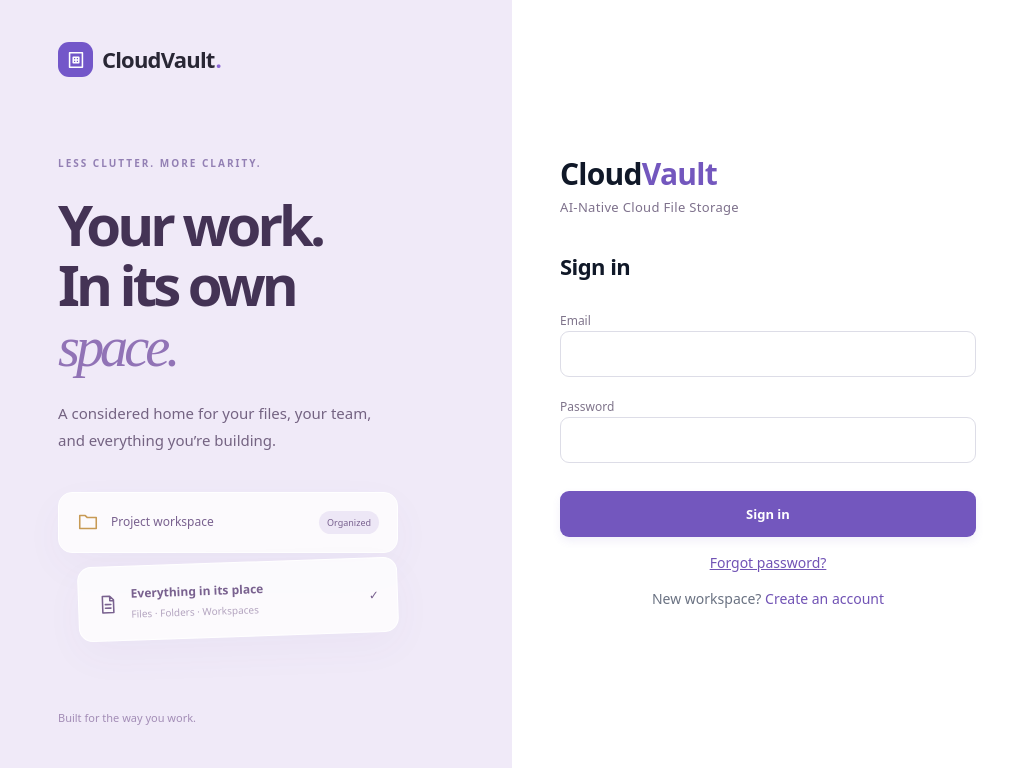
Authentication flows › shows failed login without granting access
Type "ada@example.com" into the field labelled "Email" at (768, 354), box x1=560 y1=331 x2=976 y2=377
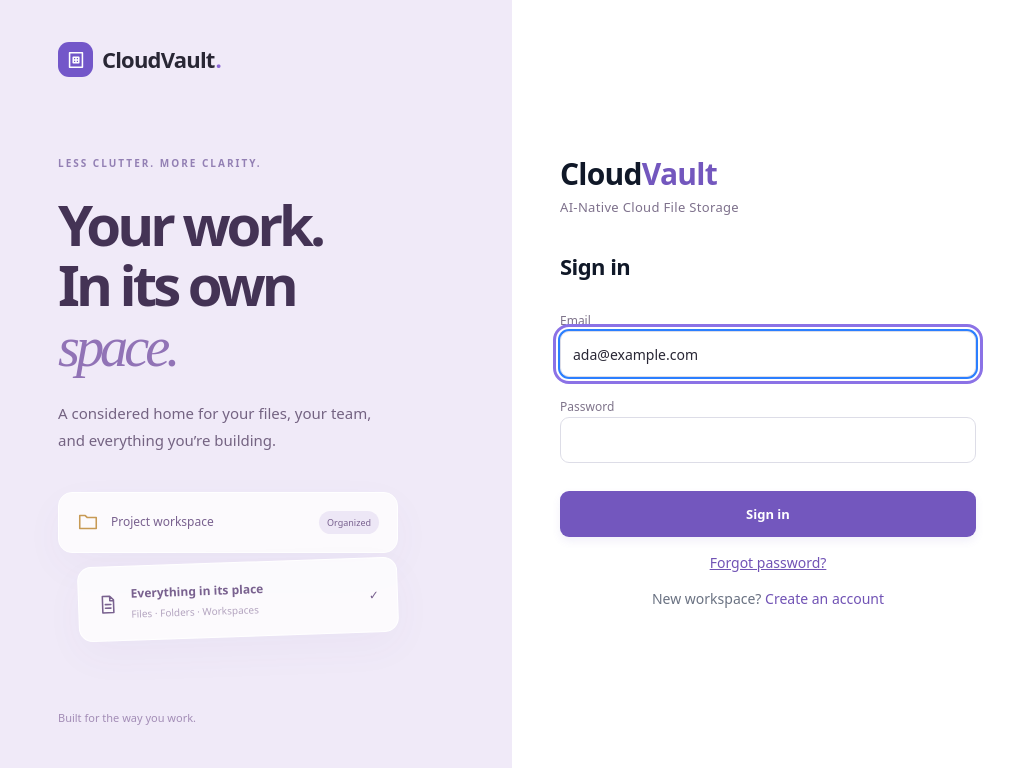
Type "wrong-password" into the password field labelled "Password" at (768, 440), box x1=560 y1=417 x2=976 y2=463
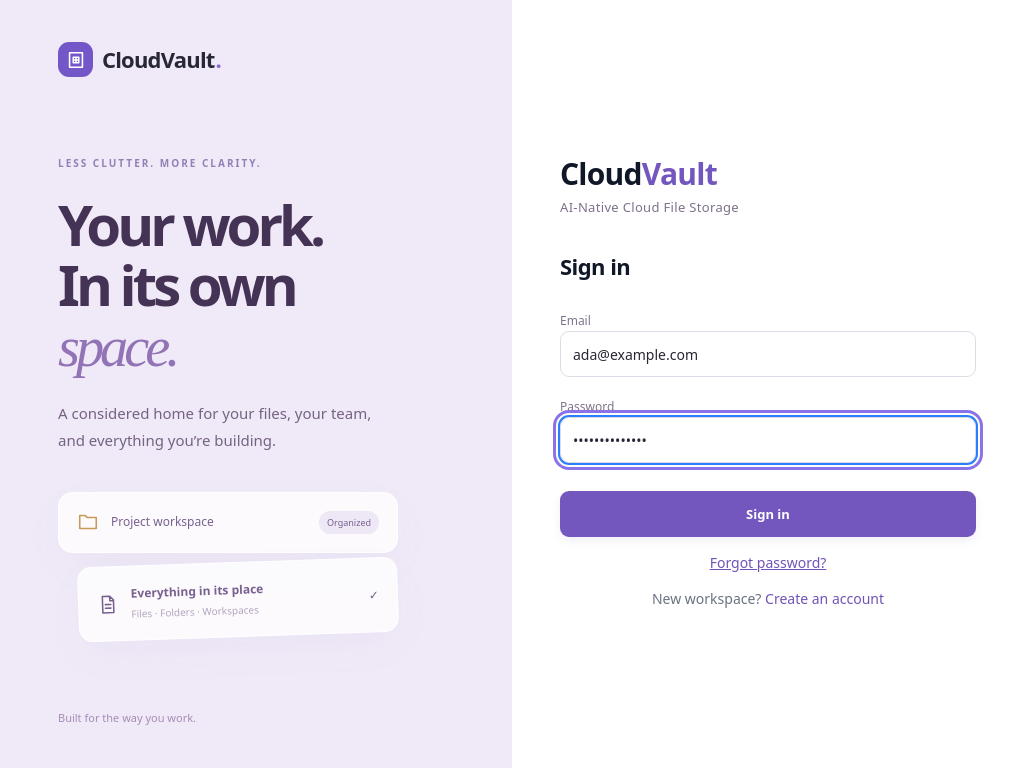
Click the button "Sign in" at (768, 514), box x1=560 y1=491 x2=976 y2=537
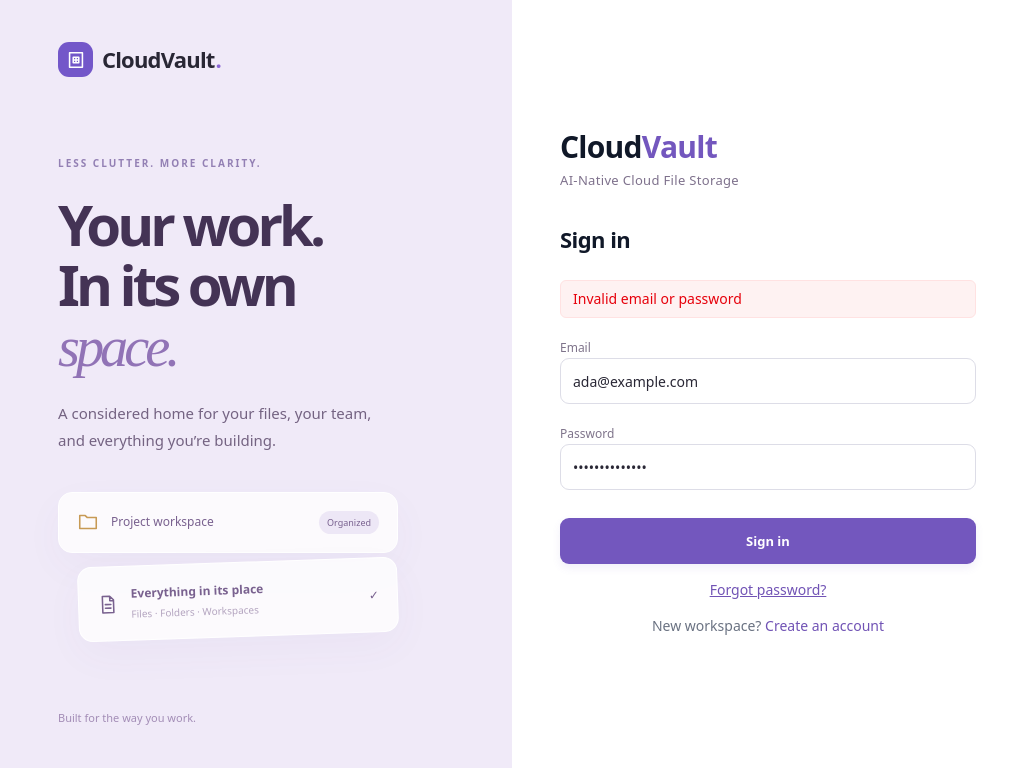
Expected: the text "Invalid email or password" is shown, x1=560 y1=280 x2=976 y2=318
